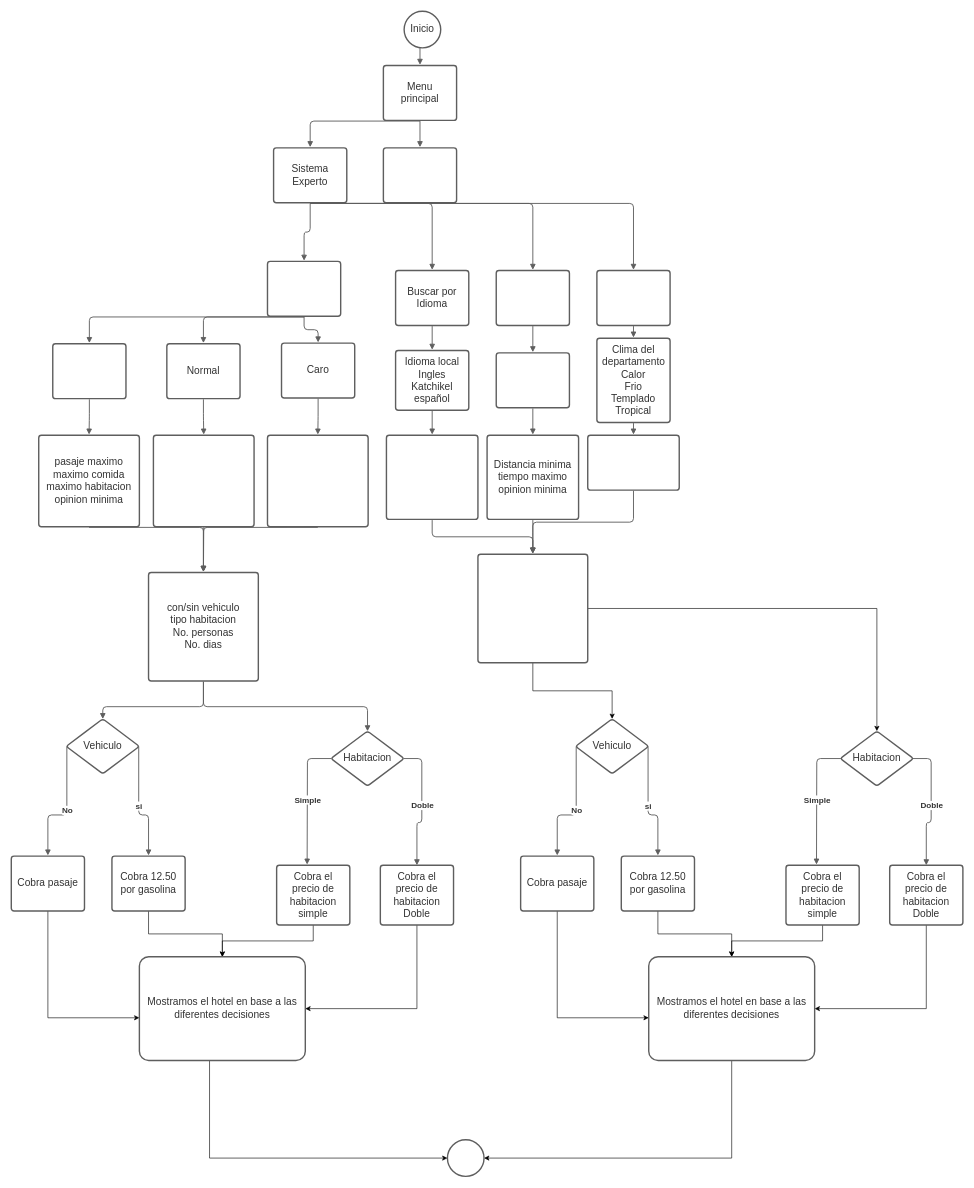
The diagram is 974 pixels wide and 1188 high, and some of its shapes have lost their labels. The shapes that lost their labels are listed below. From the top down, each one's box as (x1, y1, x2, y2) in pixels, then its label:
(382, 147, 457, 203): reportes
(267, 260, 341, 317): Buscar por Presupuesto
(495, 270, 570, 326): Buscar por Estrellas
(596, 270, 671, 326): Bucar por clima
(52, 343, 126, 399): Barato
(495, 352, 570, 408): Estrellas del hotel 1-5
(152, 434, 254, 527): Estrellas maximas clima deseado distancia maxima
(267, 434, 369, 527): clima deseado tiempo estimado idioma local
(385, 434, 478, 520): Distancia maxima clima deseado tiempo estimado
(587, 434, 680, 491): Distancia minima tiempo minimo opinion minima
(477, 553, 588, 663): Presupuesto maximo con/sin vehiculo tipo habitacion No. personas No. dias
(446, 1139, 484, 1177): FIn
